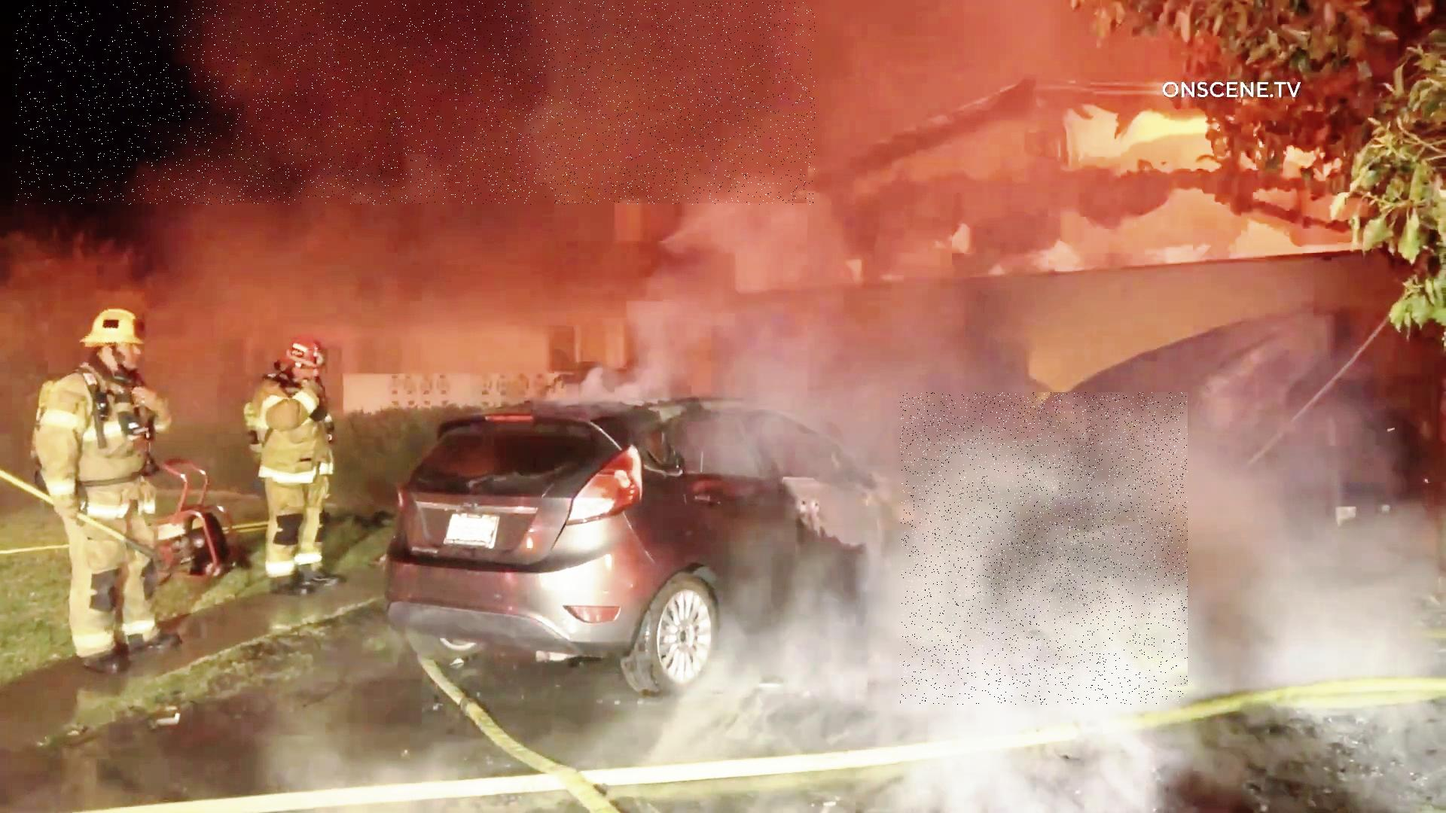smoke: (15, 2, 816, 205), (900, 392, 1188, 705)
